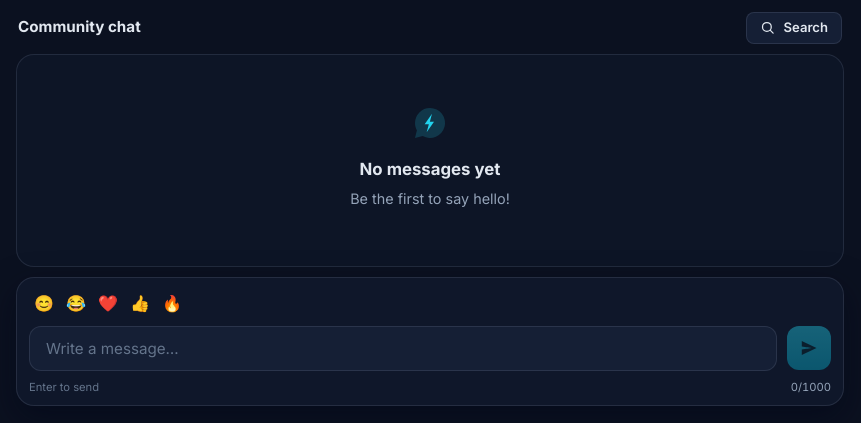
Test case: ChatRoom › quick emoji › appends an emoji to the draft without sending
Type "Hi " into the field labelled "message" at (403, 348), box [29, 326, 777, 370]
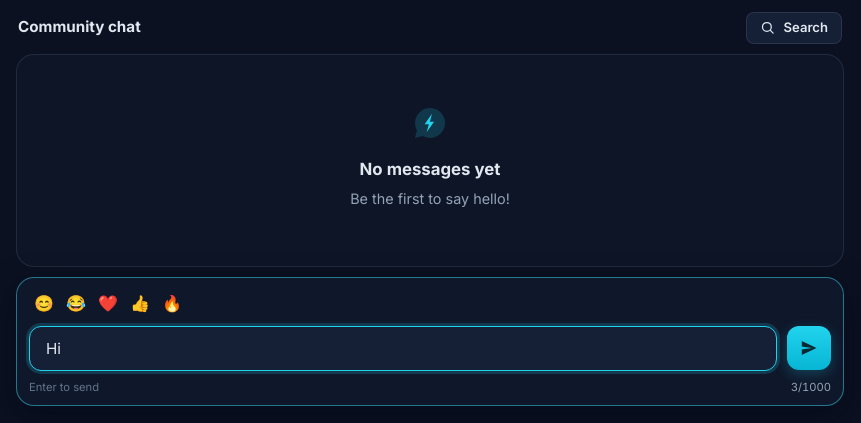
Click the button named "Insert 🔥" at (172, 302), box [157, 288, 187, 318]
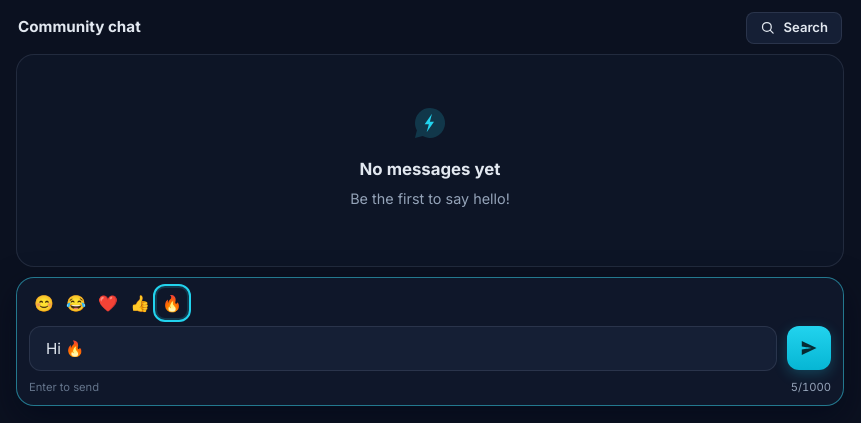
Now the field named "message" holds "Hi 🔥", box [29, 326, 777, 370]
